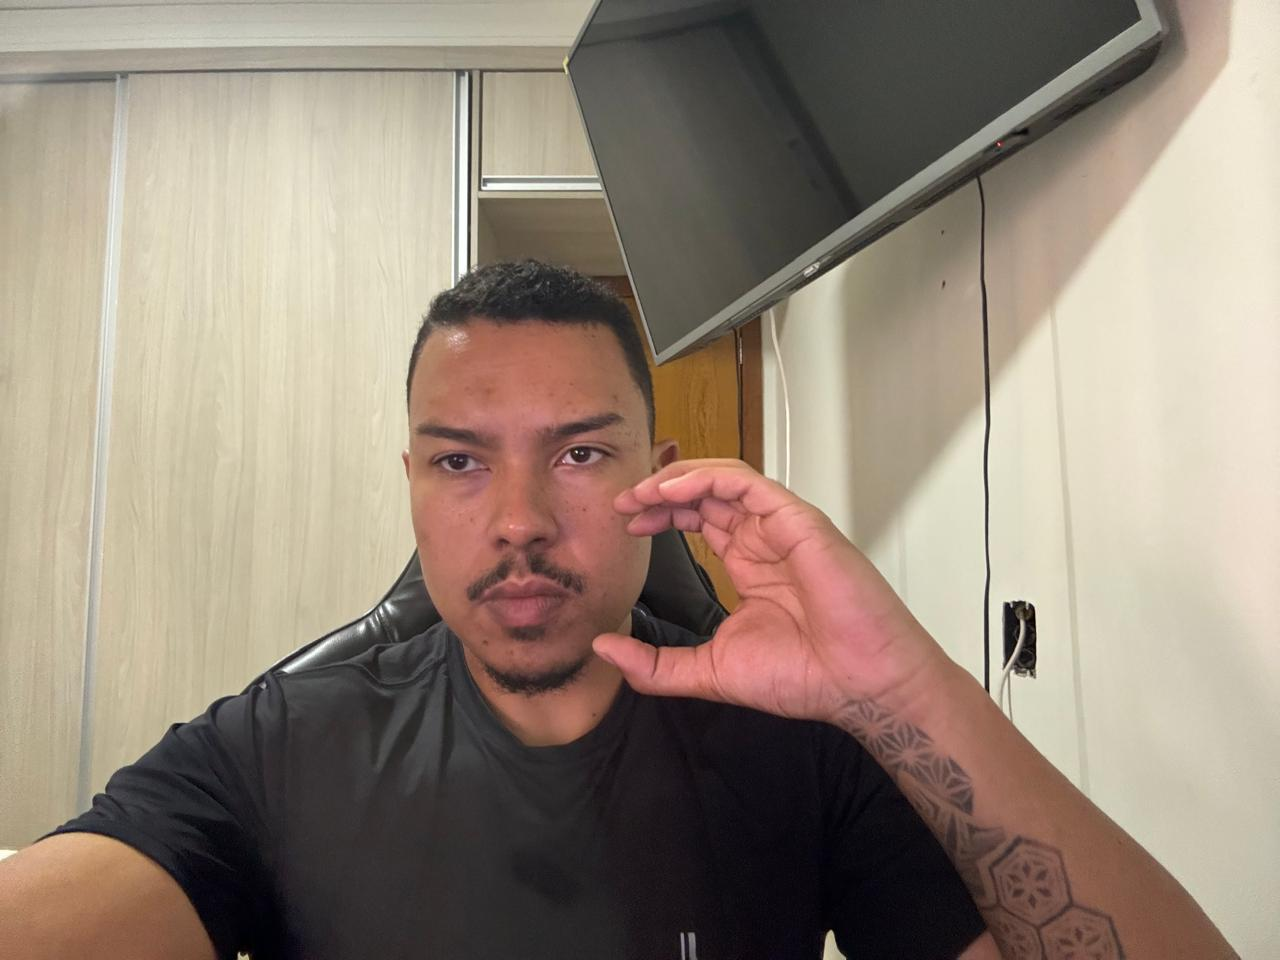c: (591, 449, 942, 740)
